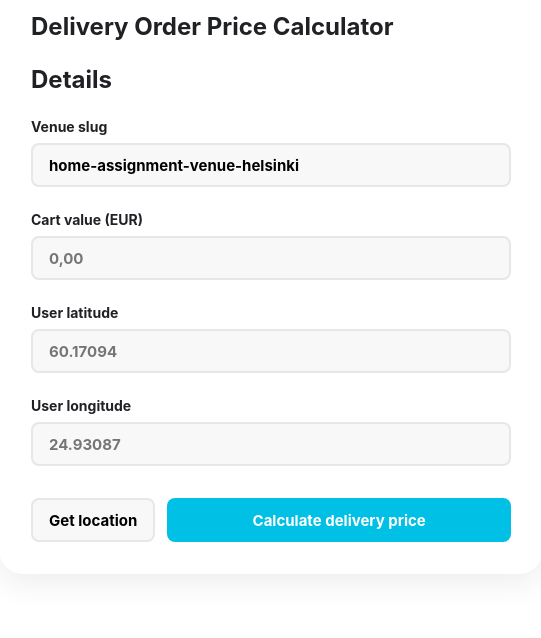
Test: DeliveryCalculator › handles null delivery fee case
Type "10.00" into the field with test id "cartValue" at (271, 258), box 31,236 -> 511,280
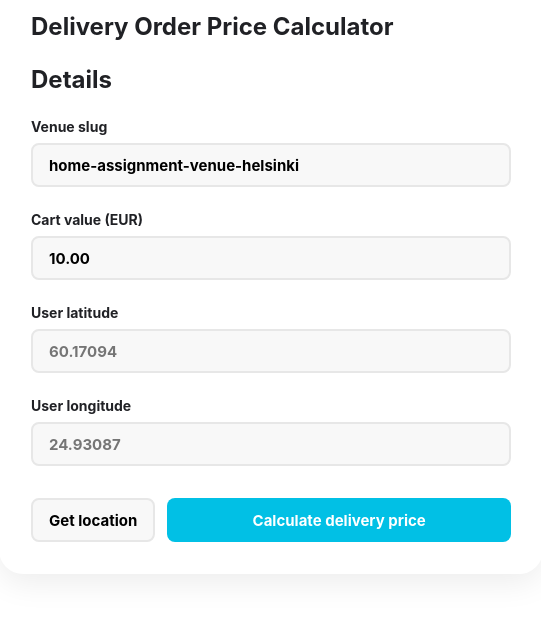
Type "60.1699" into the number field with test id "userLatitude" at (271, 351), box 31,329 -> 511,373
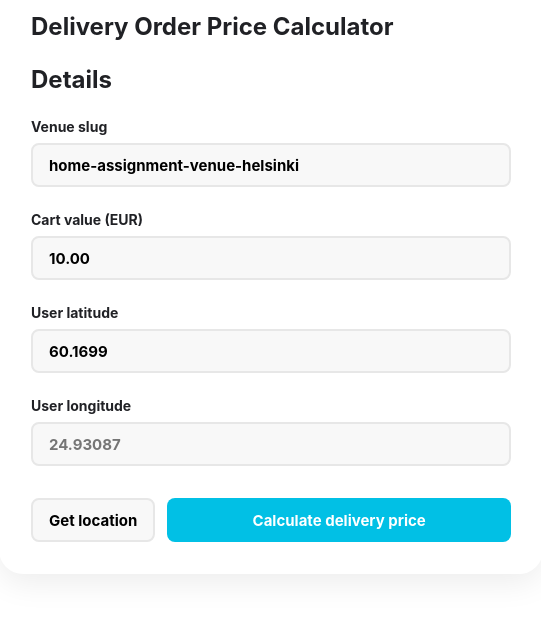
Type "24.9384" into the number field with test id "userLongitude" at (271, 444), box 31,422 -> 511,466
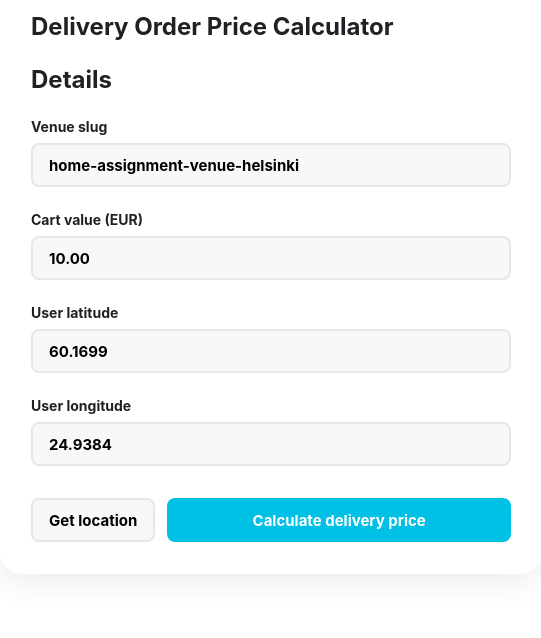
Click the button with test id "calculateDeliveryPrice" at (339, 520), box 167,498 -> 511,542
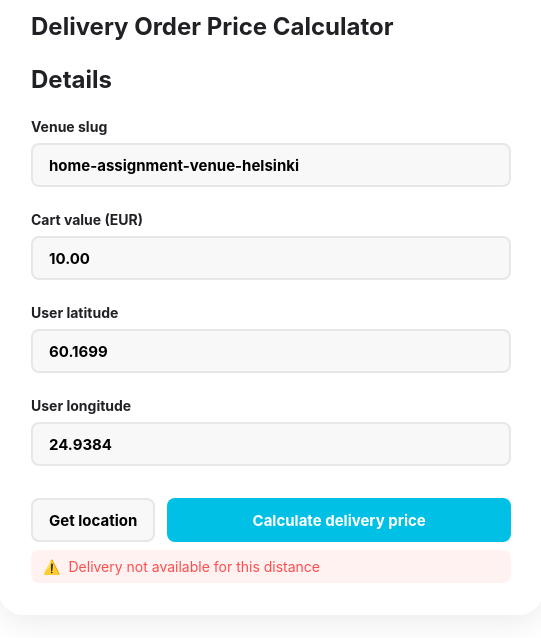
Now the text "⚠️ Delivery not available for this distance" is shown, box 31,550 -> 511,583
